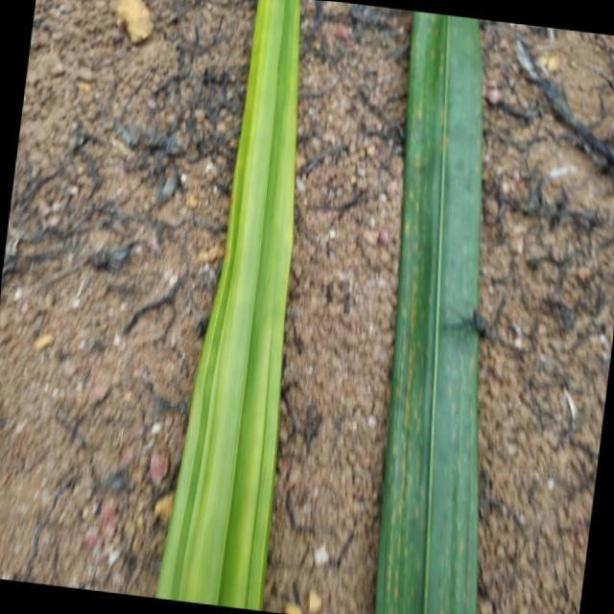nitrogen: (157, 0, 294, 614)
